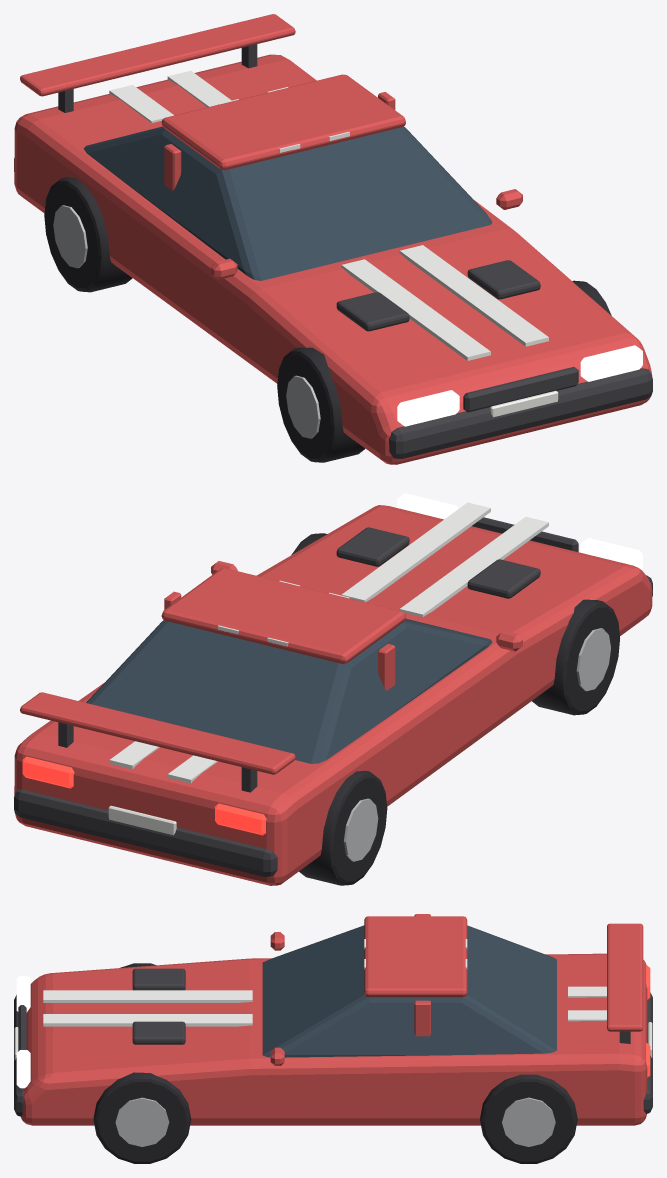
File: coupe.glb
3 views of the same model, one above another, from view 1: azimuth 30°, elevation 25°; view 2: azimuth 150°, elevation 25°; view 3: azimuth 270°, elevation 25° (orthographic). The views are drawn at different scales.
Parts seen in each view (by area): view 1: Body.007, Cabin.004, Roof.004, BumperF.005, Wing, Tyre0L.005, Tyre1L.005, RaceHood1, RaceHood-1, Grille.005, Scoop-1, Scoop1 (+8 smaller); view 2: Body.007, Cabin.004, Roof.004, BumperR.005, Wing, Tyre0L.005, Tyre1L.005, RaceHood1, RaceHood-1, Scoop-1, Scoop1, Rim0L.005 (+10 smaller); view 3: Body.007, Cabin.004, Roof.004, Tyre0R.005, Tyre1R.005, Wing, RaceHood-1, RaceHood1, Rim0R.005, Rim1R.005, Scoop1, Scoop-1 (+8 smaller).
Part boxes in pixels (x1,y1,x2,y2): Body.007: [14, 54, 652, 464]; Cabin.004: [83, 126, 492, 280]; Roof.004: [161, 74, 405, 170]; BumperF.005: [389, 368, 652, 458]; Wing: [20, 14, 295, 96]; Tyre0L.005: [277, 347, 365, 462]; Tyre1L.005: [44, 177, 132, 292]; RaceHood1: [399, 245, 548, 346]; RaceHood-1: [341, 259, 490, 360]; Grille.005: [463, 367, 578, 412]; Scoop-1: [336, 292, 409, 331]; Scoop1: [467, 260, 540, 299]; Body.007: [14, 505, 652, 885]; Cabin.004: [86, 618, 492, 763]; Roof.004: [161, 568, 405, 663]; BumperR.005: [14, 789, 277, 876]; Wing: [20, 692, 295, 774]; Tyre0L.005: [532, 599, 619, 715]; Tyre1L.005: [299, 770, 387, 885]; RaceHood1: [341, 502, 490, 602]; RaceHood-1: [399, 516, 548, 616]; Scoop-1: [467, 559, 540, 598]; Scoop1: [336, 527, 409, 566]; Rim0L.005: [576, 628, 610, 691]; Body.007: [21, 953, 647, 1125]; Cabin.004: [262, 925, 556, 1057]; Roof.004: [364, 916, 467, 997]; Tyre0R.005: [93, 1072, 191, 1163]; Tyre1R.005: [480, 1074, 577, 1163]; Wing: [607, 923, 643, 1031]; RaceHood-1: [43, 990, 252, 1002]; RaceHood1: [43, 1014, 252, 1026]; Rim0R.005: [115, 1097, 169, 1146]; Rim1R.005: [502, 1097, 555, 1146]; Scoop1: [132, 1021, 185, 1044]; Scoop-1: [132, 968, 185, 990].
Size of the model in its own units: 2.12 by 1.22 by 4.58.
